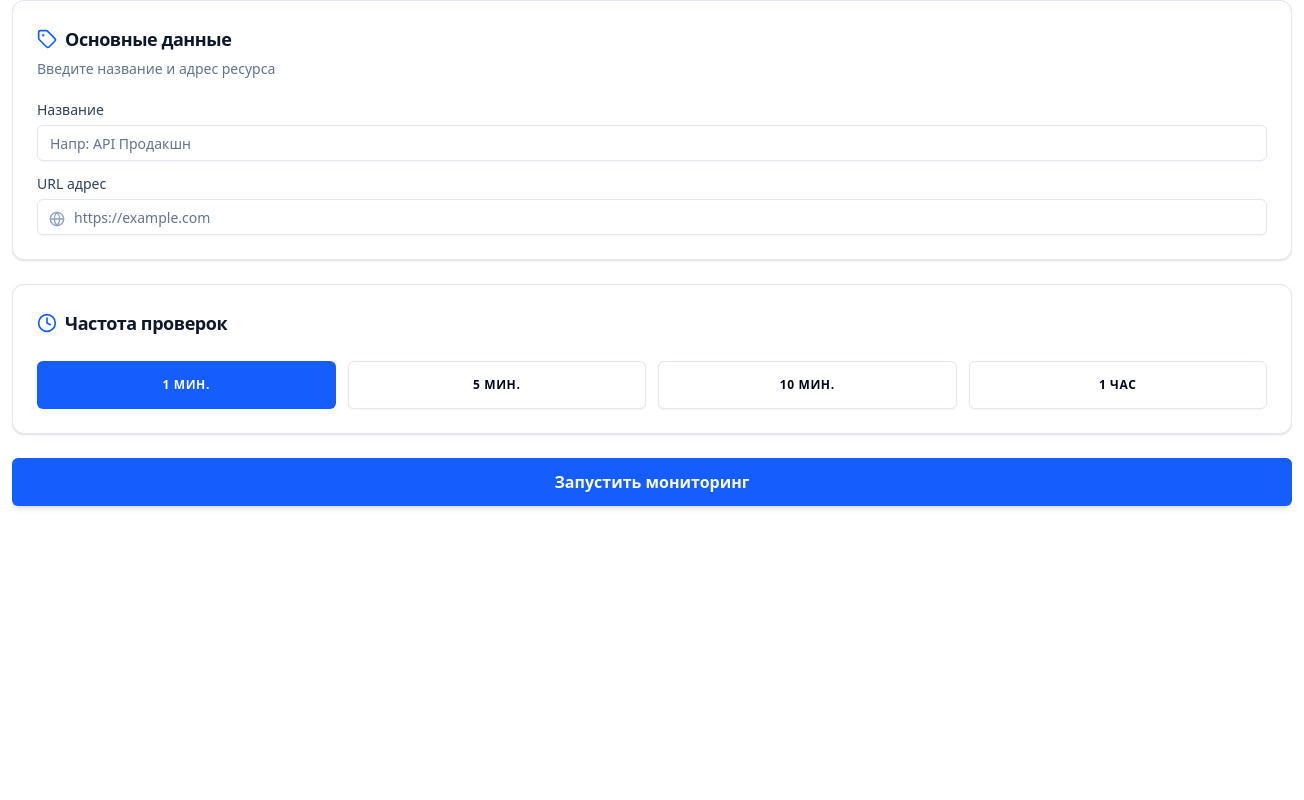
it: CreateMonitorForm › показывает ошибки валидации при пустой отправке
The image size is (1304, 800).
Click the field labelled "Название".
click(652, 143)  # box left=37, top=125, right=1267, bottom=161
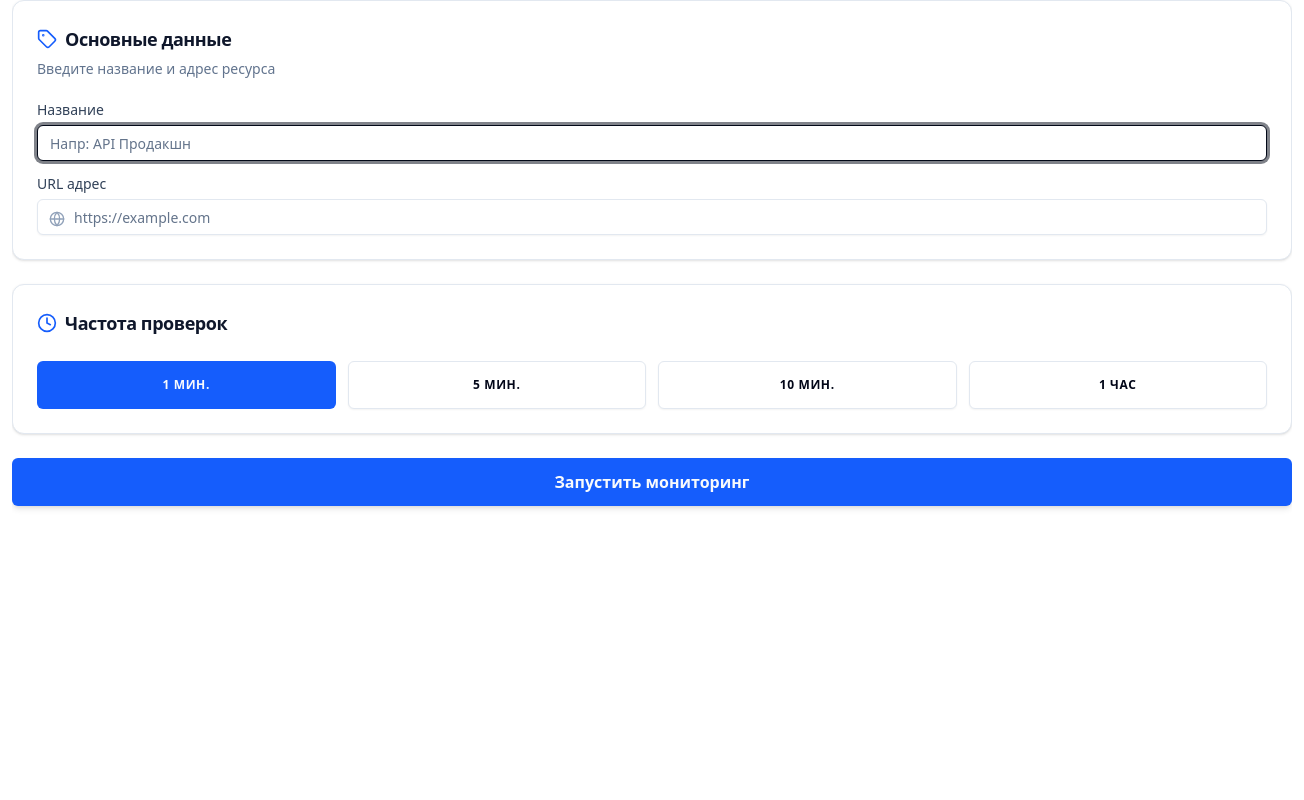
Click the field labelled "URL адрес".
click(652, 217)  # box left=37, top=199, right=1267, bottom=235
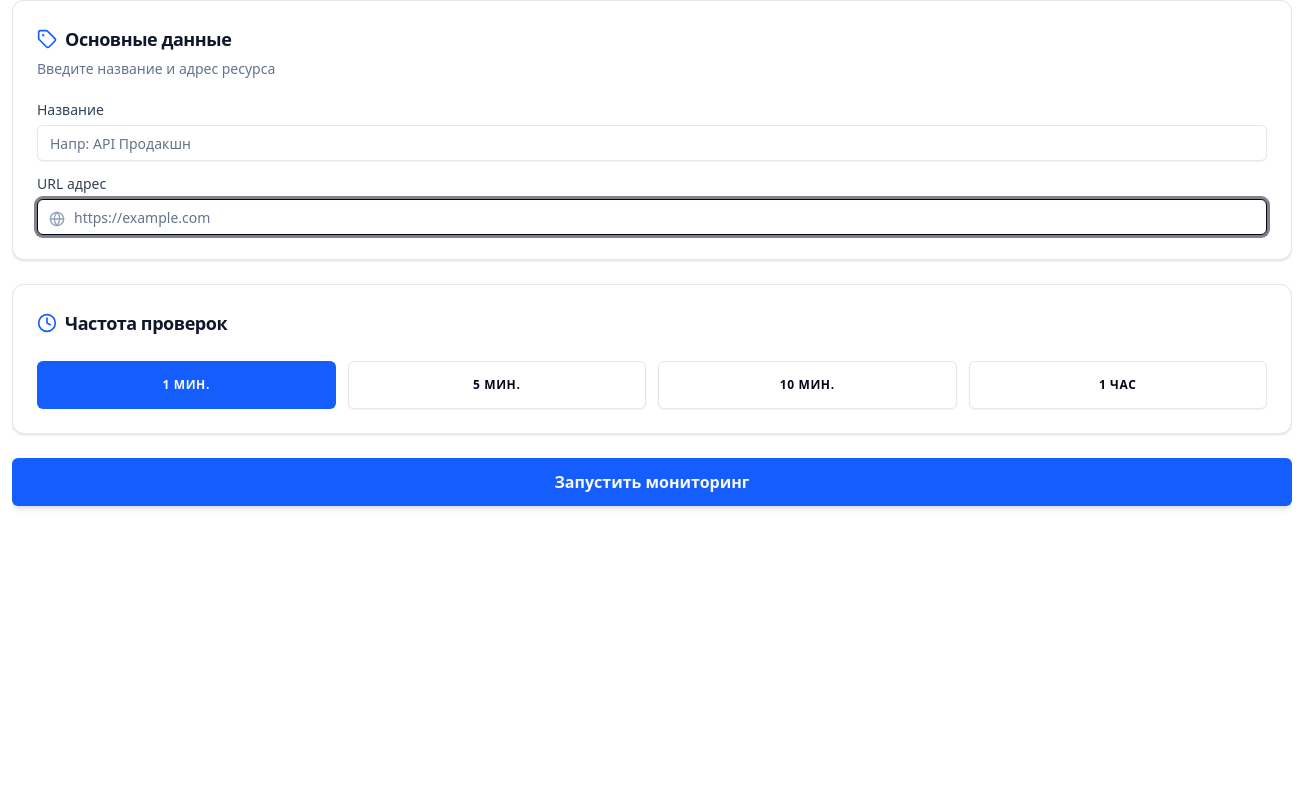
Click the button with test id "submit-monitor".
click(652, 482)  # box left=12, top=458, right=1292, bottom=506
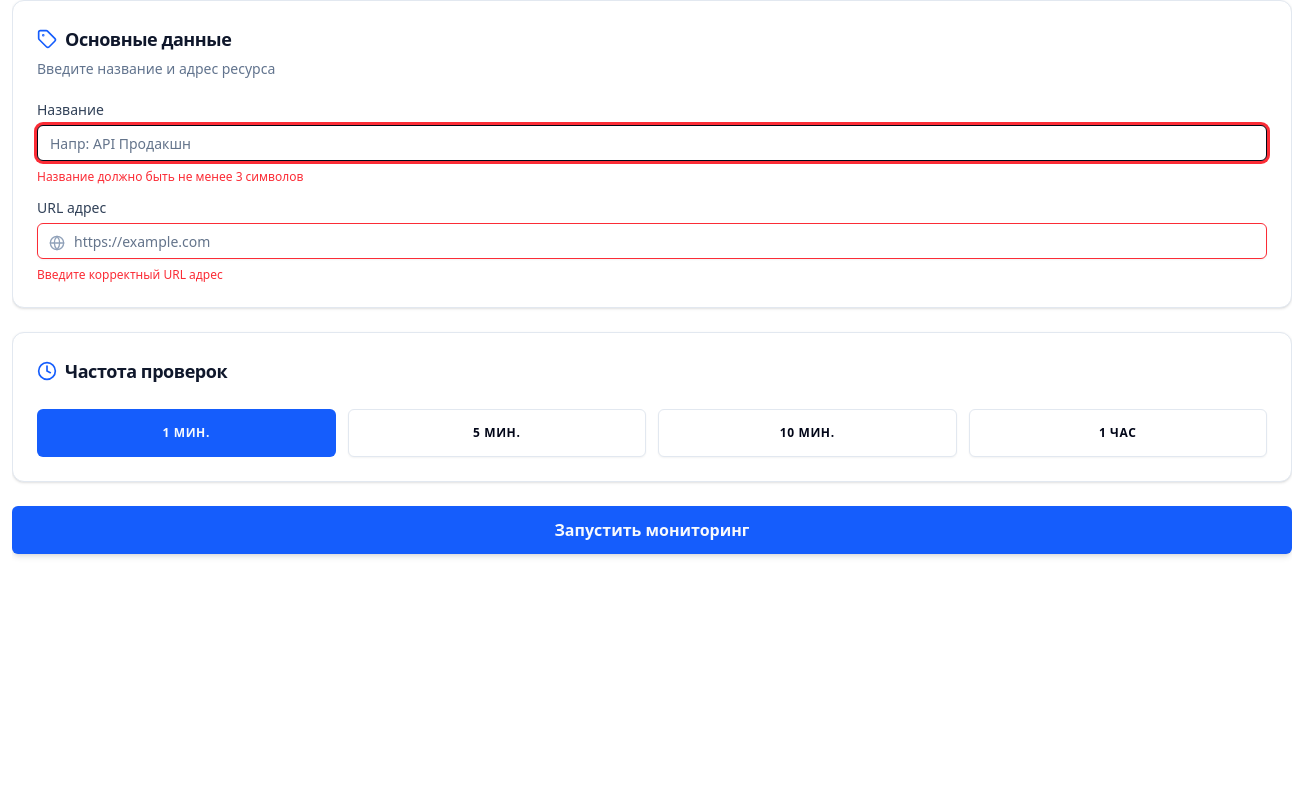
Expected: the text "Название должно быть не менее 3 символов" is shown, left=37, top=168, right=303, bottom=185
Expected: the text "Введите корректный URL адрес" is shown, left=37, top=266, right=223, bottom=283
